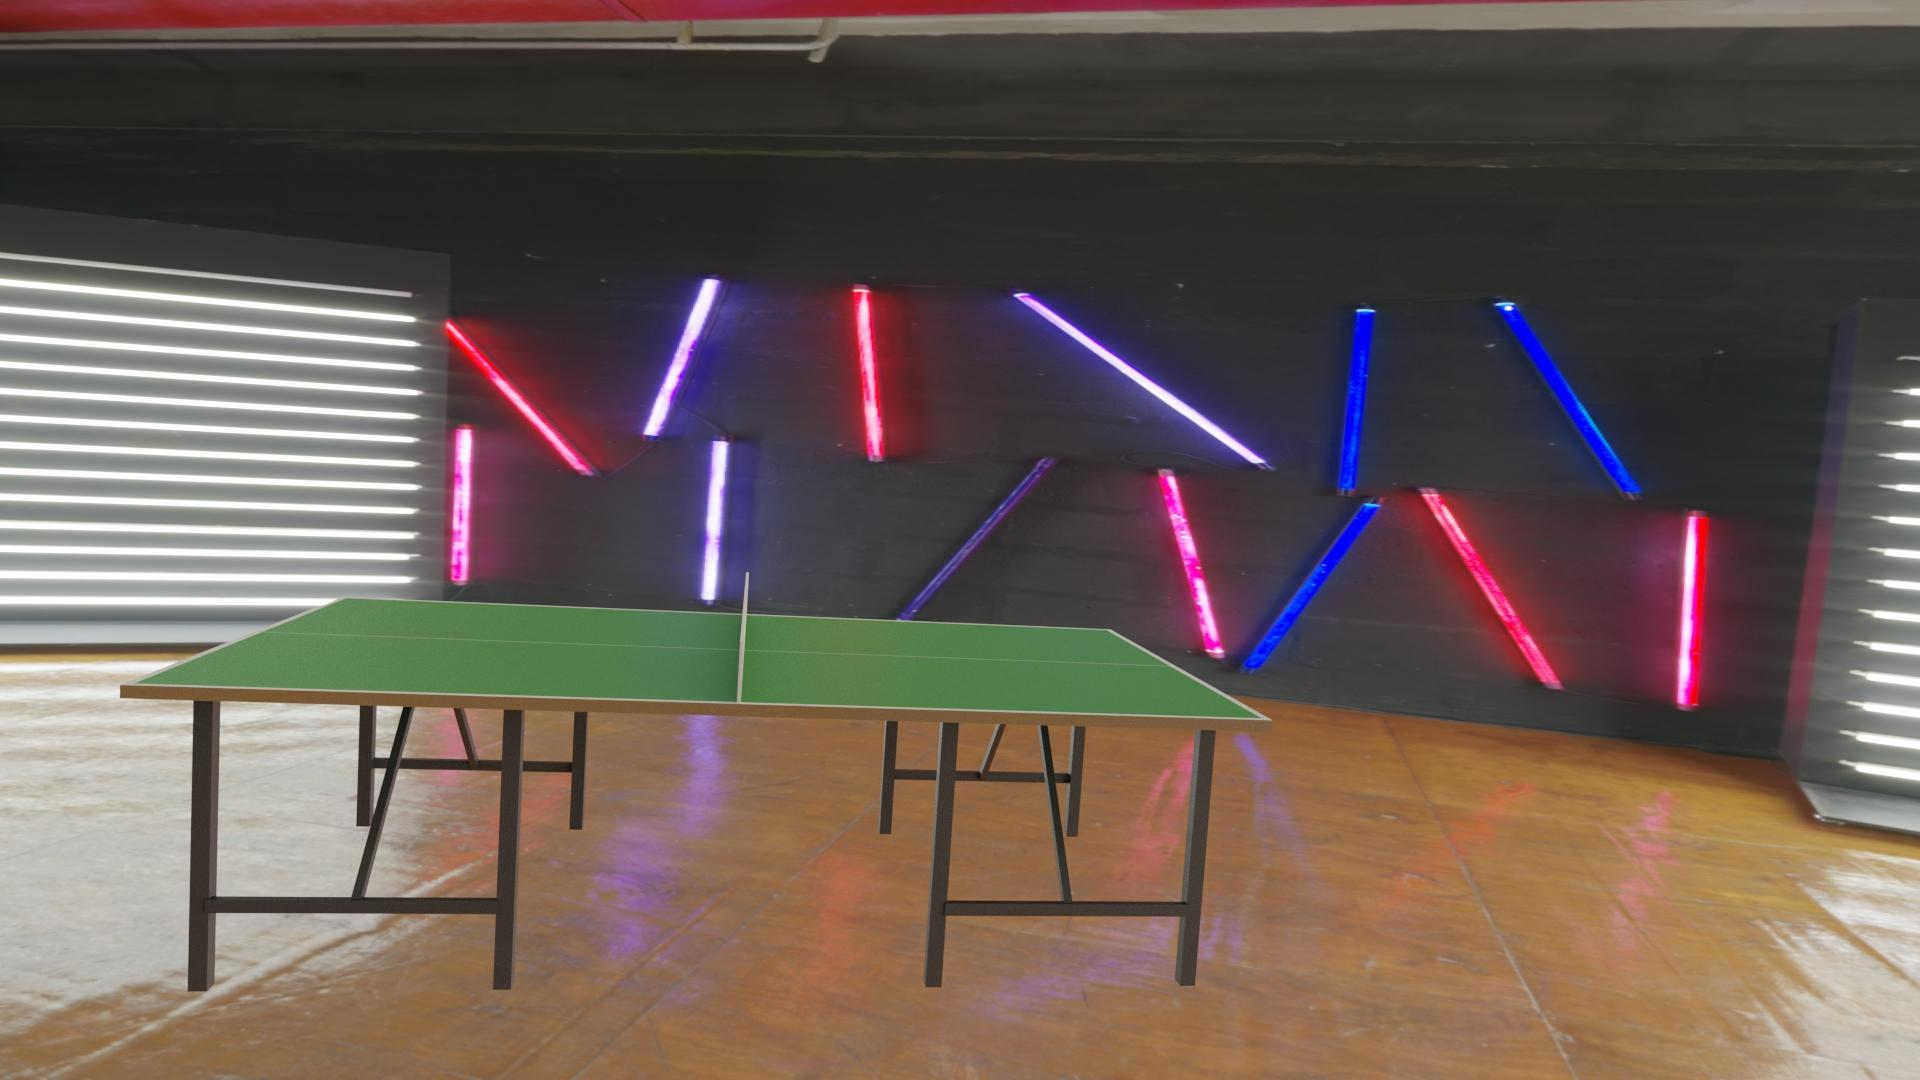table: (135, 599, 1262, 719)
